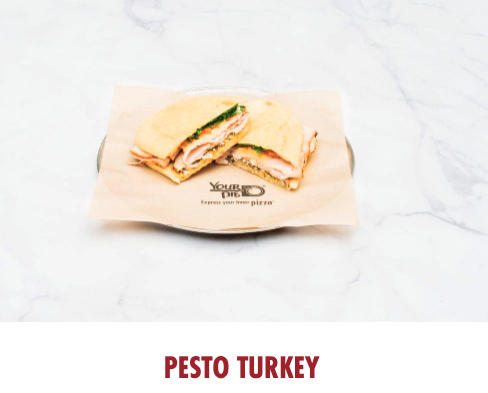soup: (129, 95, 251, 184), (226, 97, 317, 193)
